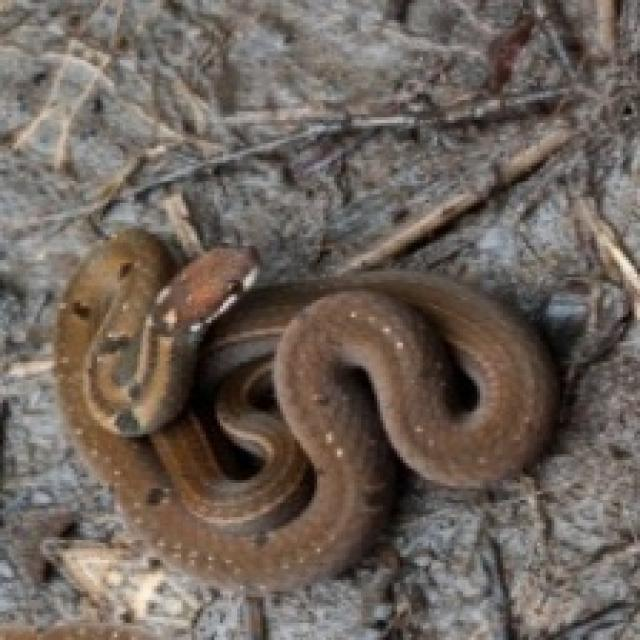philippine stripe-lipped: (54, 229, 557, 589)
